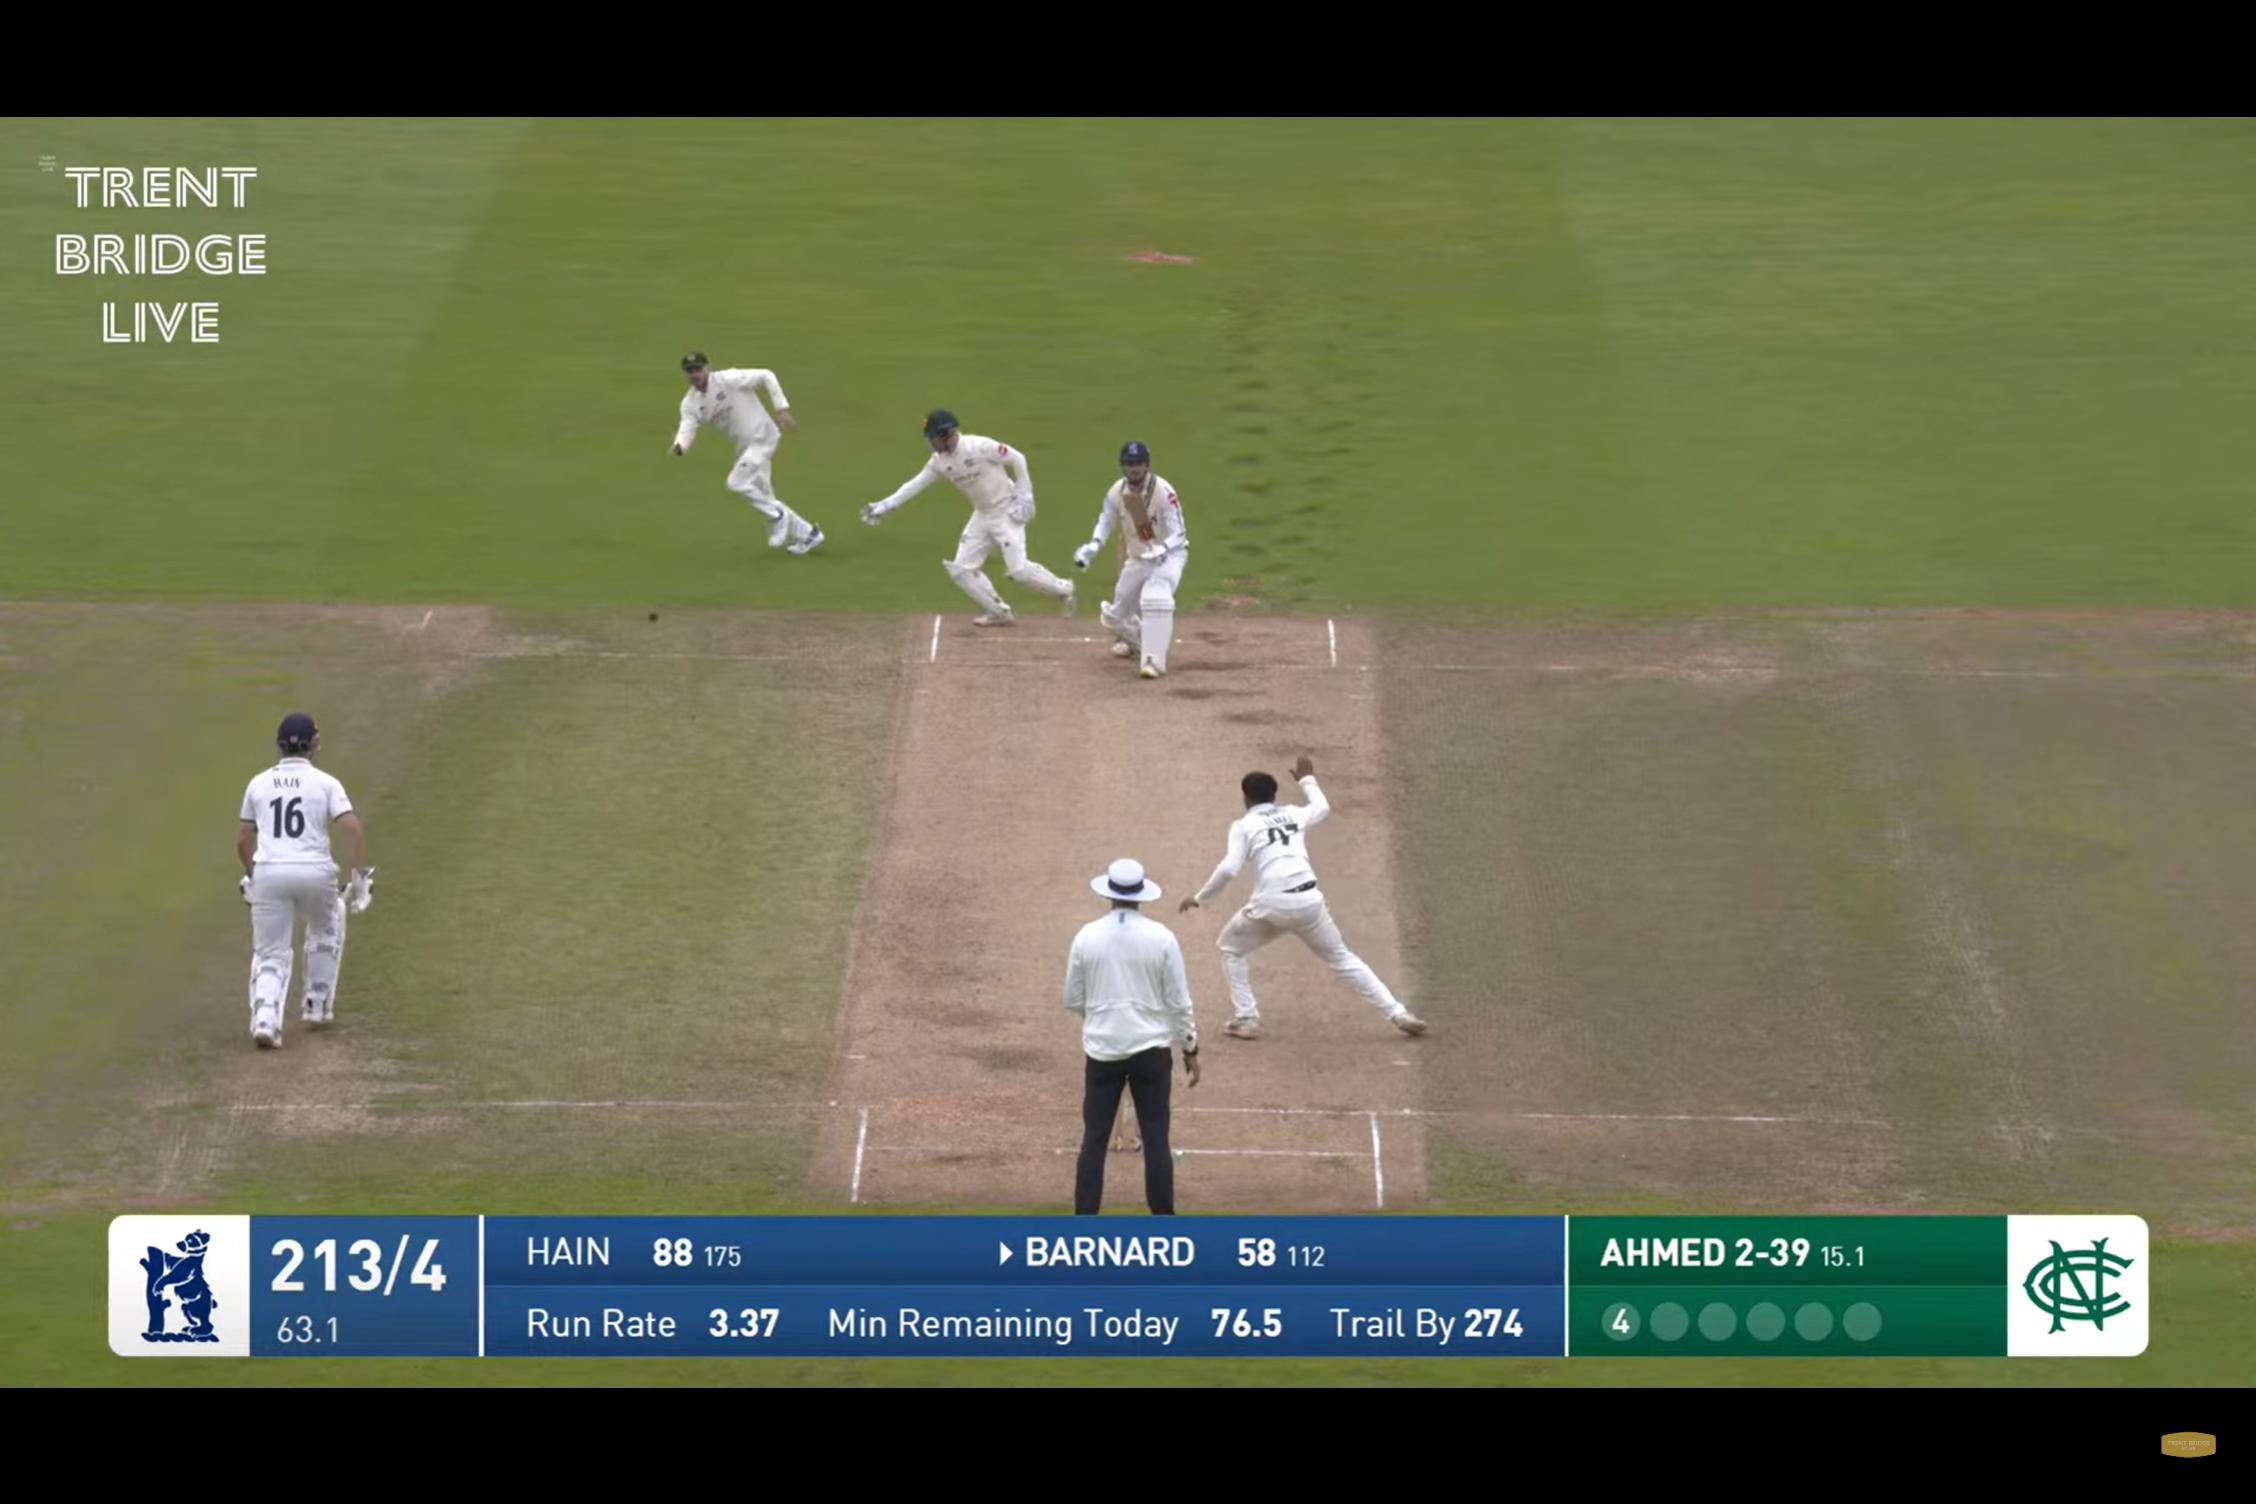batsman: (1083, 428, 1219, 681)
bowler running in: (1202, 728, 1407, 1076)
non striker: (166, 678, 406, 1054)
umpire: (1031, 848, 1195, 1214)
wicket keeper: (868, 383, 1073, 643)
